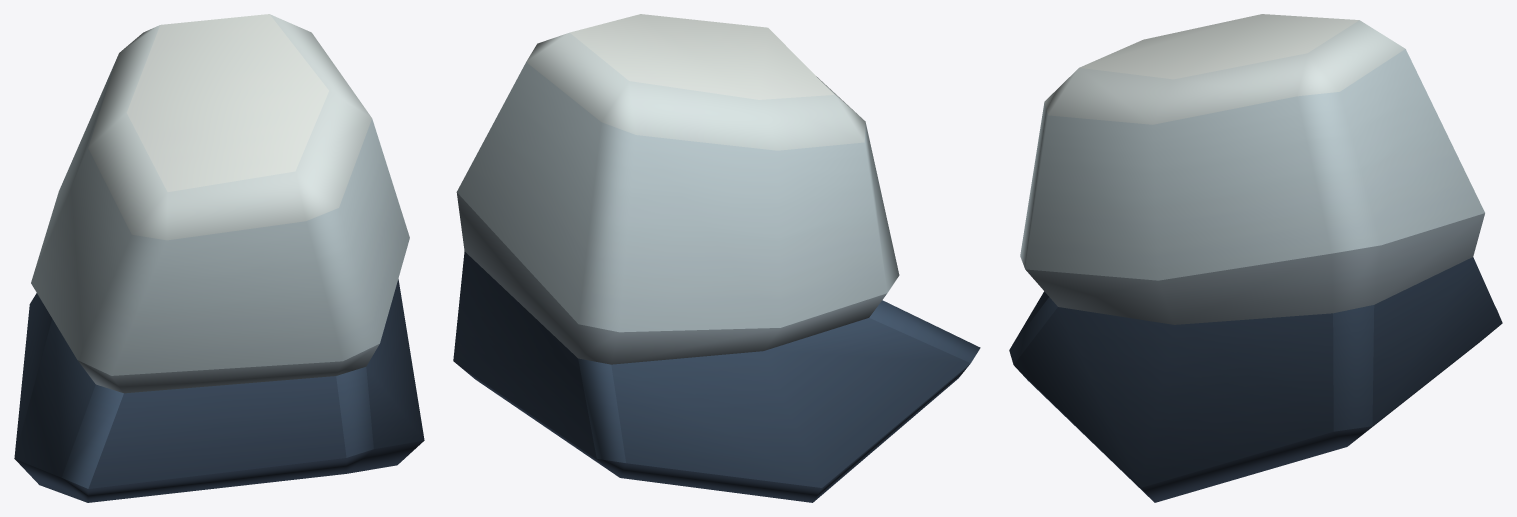
Rendered from rock_snow_08.fbx.
3 views of the same model, side by side, from view 1: azimuth 30°, elevation 25°; view 2: azimuth 150°, elevation 25°; view 3: azimuth 270°, elevation 25° (orthographic). The views are drawn at different scales.
Visible parts, largest first — view 1: rock_snow_08; view 2: rock_snow_08; view 3: rock_snow_08.
Boxes of the visible parts, x1,y1,x2,y2 form: rock_snow_08: [14, 14, 424, 502]; rock_snow_08: [453, 14, 980, 502]; rock_snow_08: [1009, 14, 1502, 502].
Bounding box in the file's own units: 87.31 × 86.44 × 91.49.
